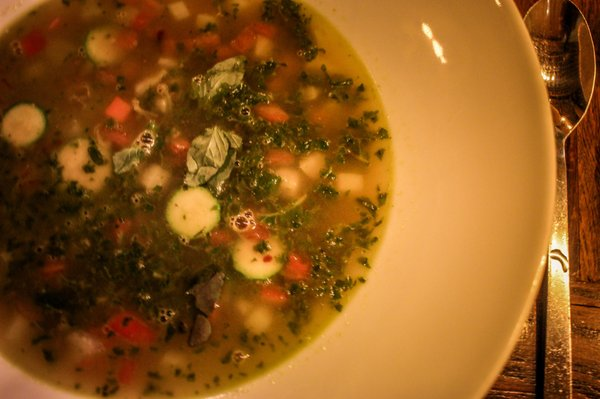pizza: (104, 96, 133, 123)
sandwich: (1, 0, 394, 386)
